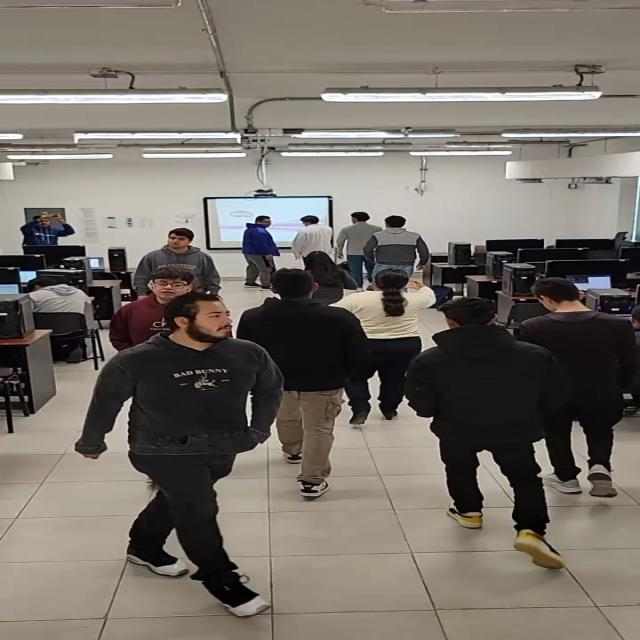Persona: (121, 294, 287, 620), (432, 307, 575, 555), (521, 269, 635, 473), (261, 268, 341, 496), (352, 271, 422, 414), (138, 227, 225, 296), (119, 268, 190, 335), (371, 213, 426, 280), (231, 214, 287, 276), (296, 252, 354, 304), (20, 210, 79, 255), (344, 207, 380, 276), (292, 213, 333, 262)
